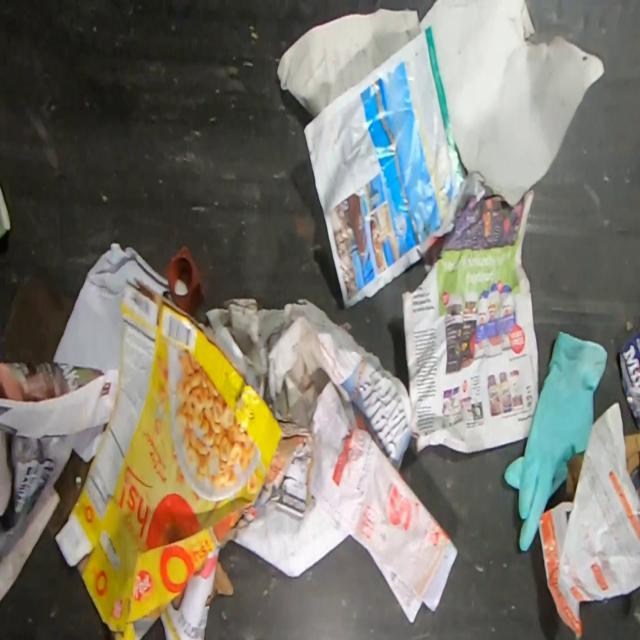cardboard: (54, 276, 284, 640), (565, 451, 583, 495), (624, 432, 640, 476)
rigid_plastic: (161, 243, 207, 318)
soft_plastic: (503, 330, 608, 554)
